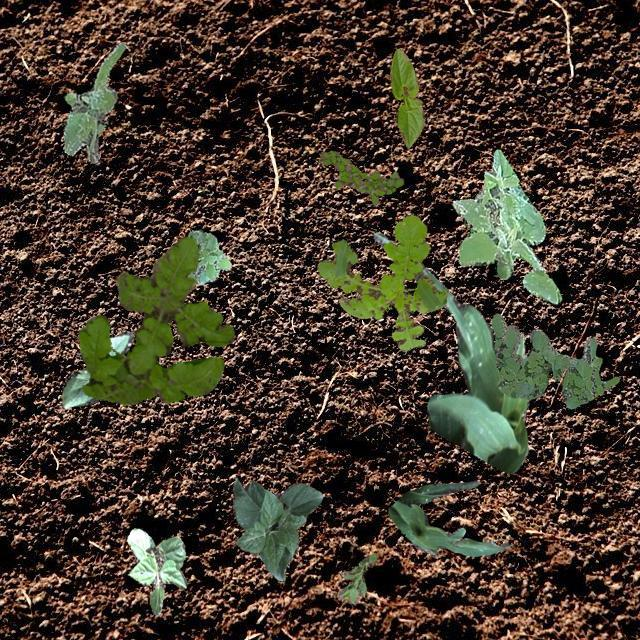crop: (372, 230, 528, 472), (232, 476, 322, 580), (388, 480, 510, 556), (59, 330, 132, 408), (126, 526, 186, 614), (389, 48, 424, 148)
weed: (76, 234, 234, 403), (316, 214, 446, 350), (450, 148, 560, 302), (491, 312, 618, 408), (64, 40, 124, 162), (318, 150, 402, 204), (186, 228, 230, 282), (336, 552, 376, 604), (474, 190, 482, 198)
